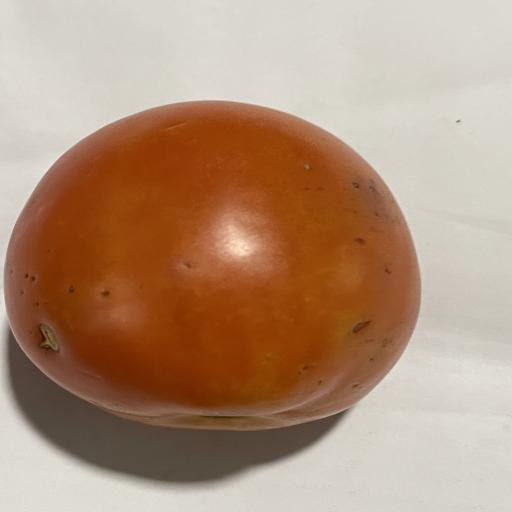ripe: (4, 101, 420, 430)
